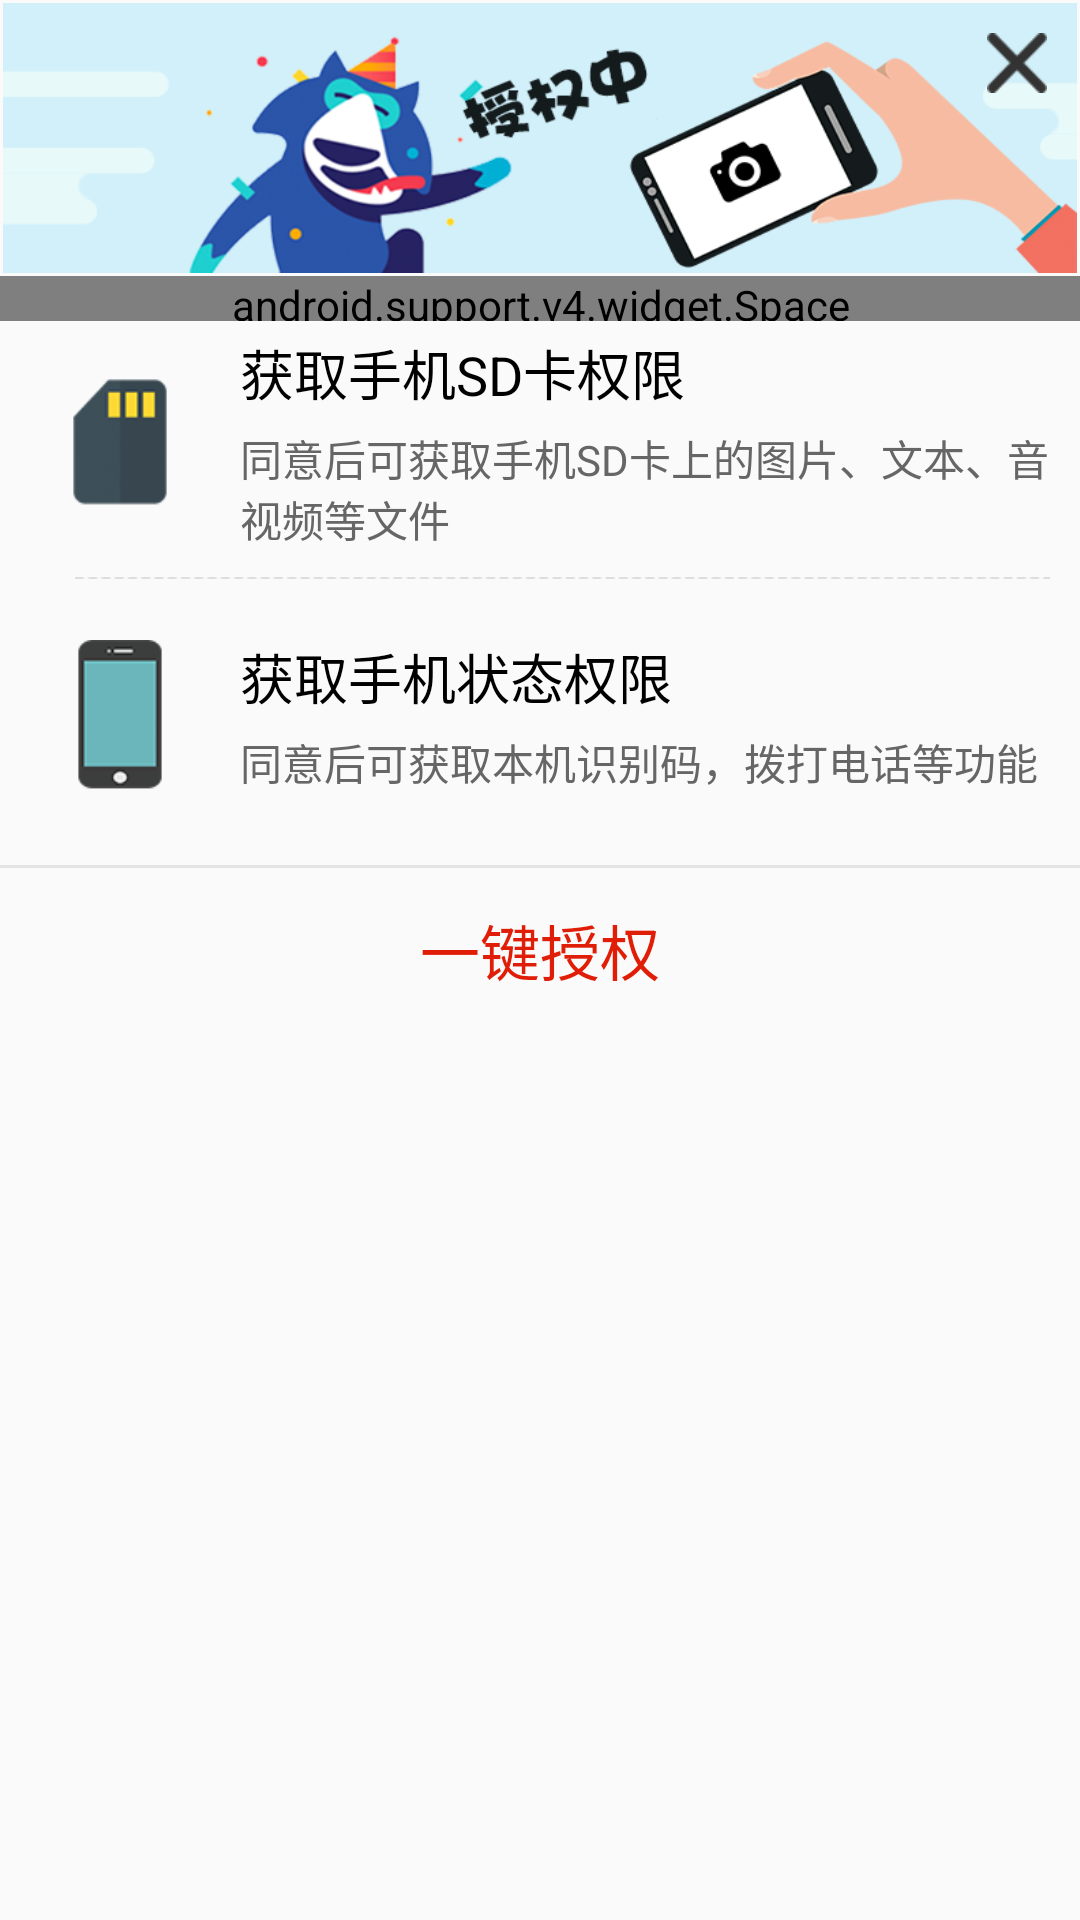

Icon bounding boxes for this 1080w x 1920h phone screenshot, format bbox=[x1, y1, x2, y2]:
permission close: bbox=[987, 33, 1047, 93]
permission phone: bbox=[78, 640, 162, 789]
permission sd: bbox=[73, 379, 167, 505]
